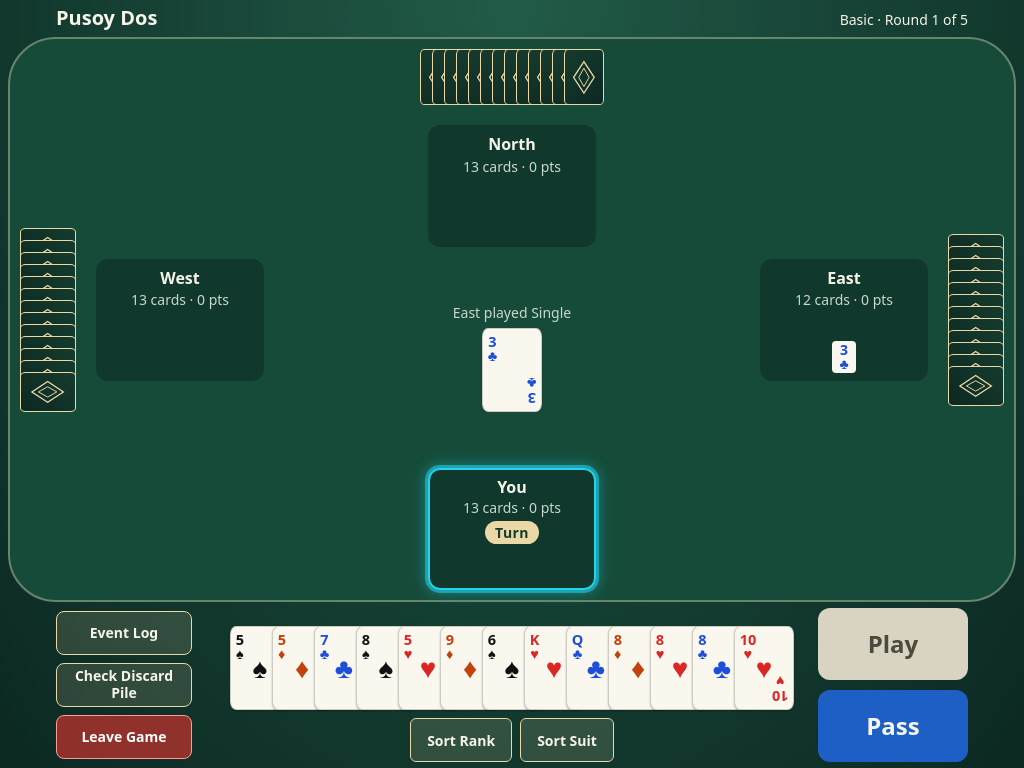
Test: Modal overlays block gameplay, including from the keyboard (review fix; ui-ux.md §9.2, §10) › makes the whole table inert while Event Log is open, and interactive again once it closes
Click the button "Event Log": (124, 633) [56,611,192,655]
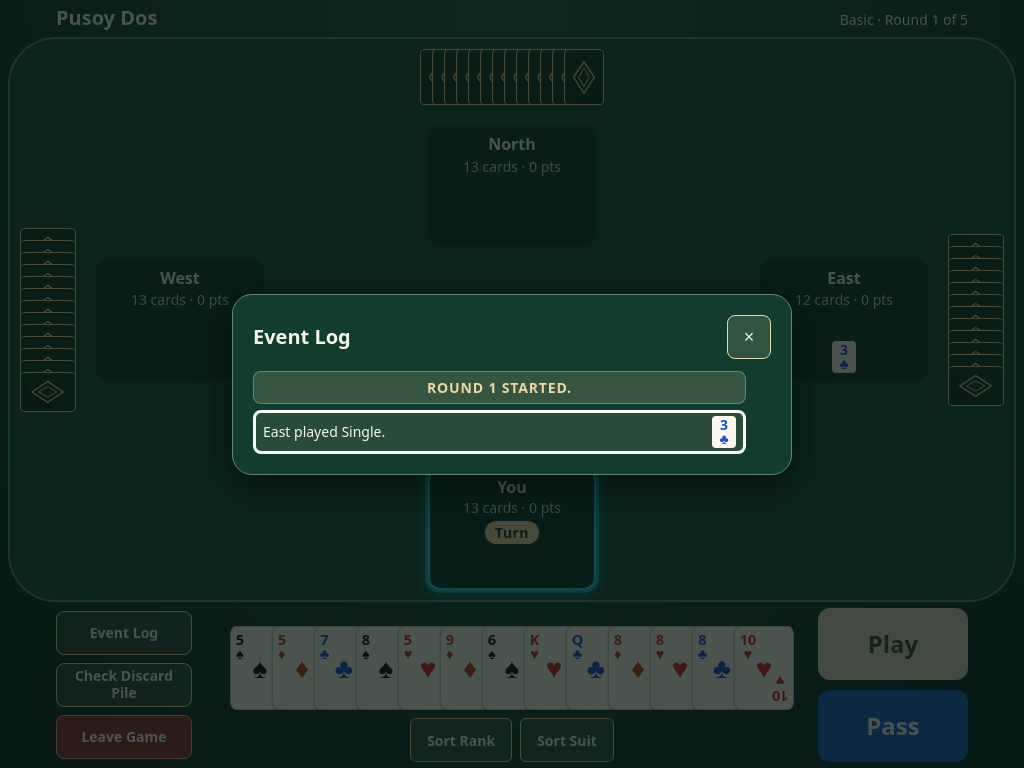
Now the dialog "Event Log" is shown, box [232,294,792,474]
Press Escape
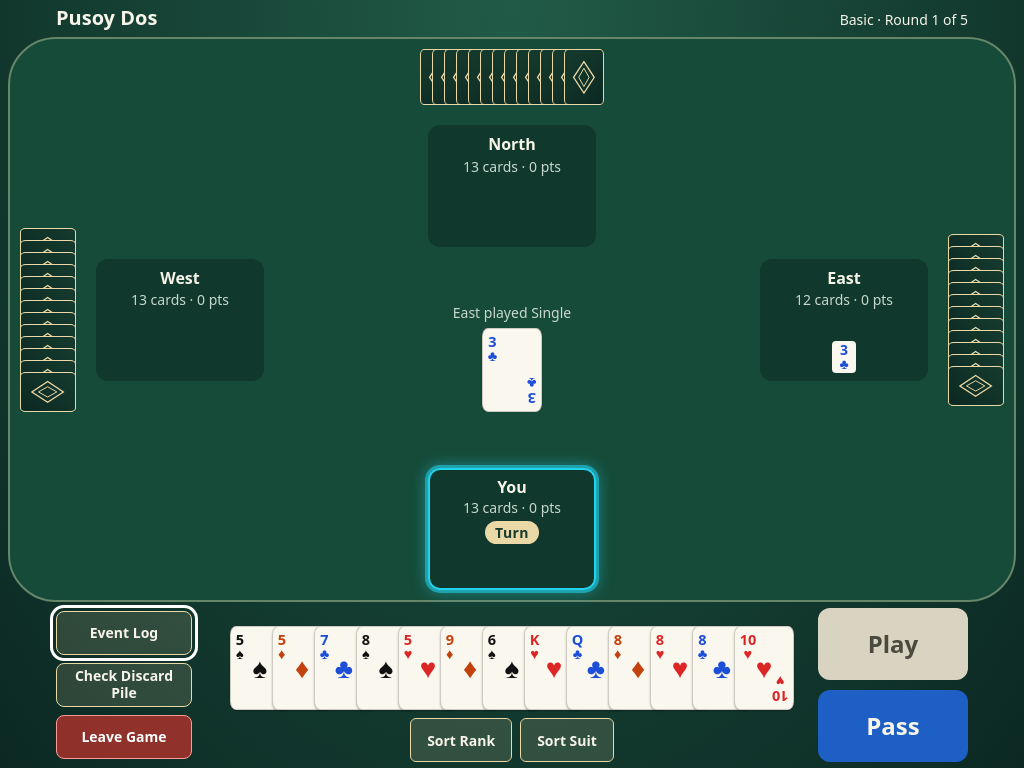
Now the dialog is gone
